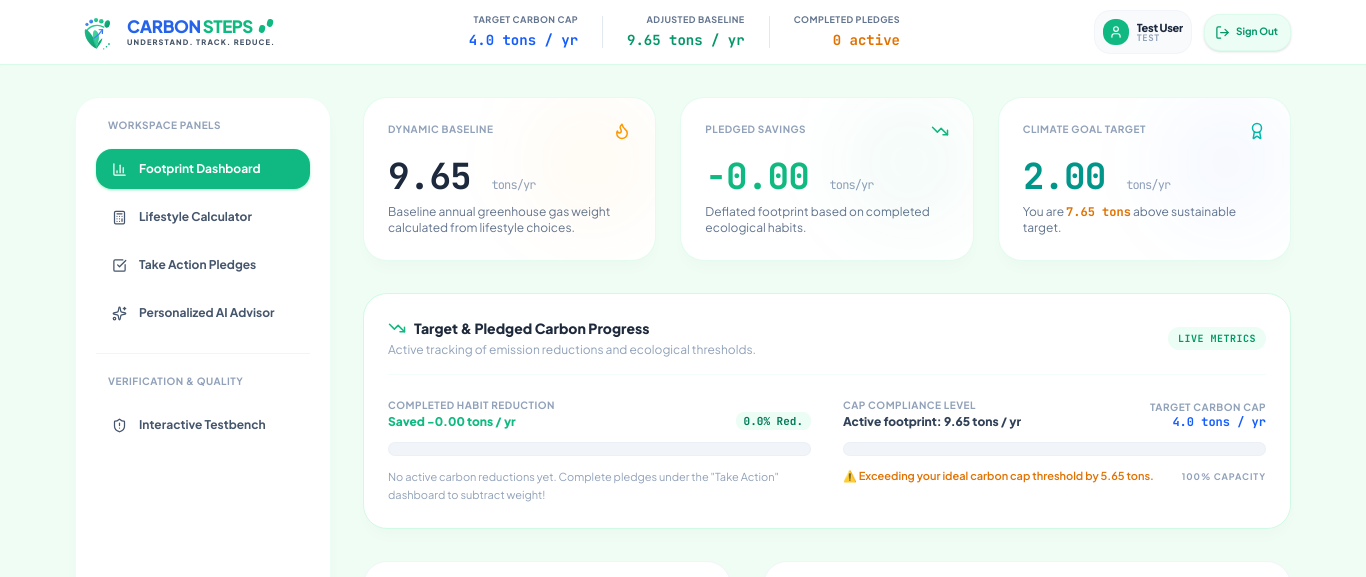
Test case: App › renders dashboard when logged in and allows tab switching
Expected: the text "Adjusted Baseline" is shown, [646,14,745,25]
Expected: the text "Test User" is shown, [1136,21,1183,34]
// Test tab switching
Click the button "Lifestyle Calculator" at x=203, y=217, box [96,197,310,237]
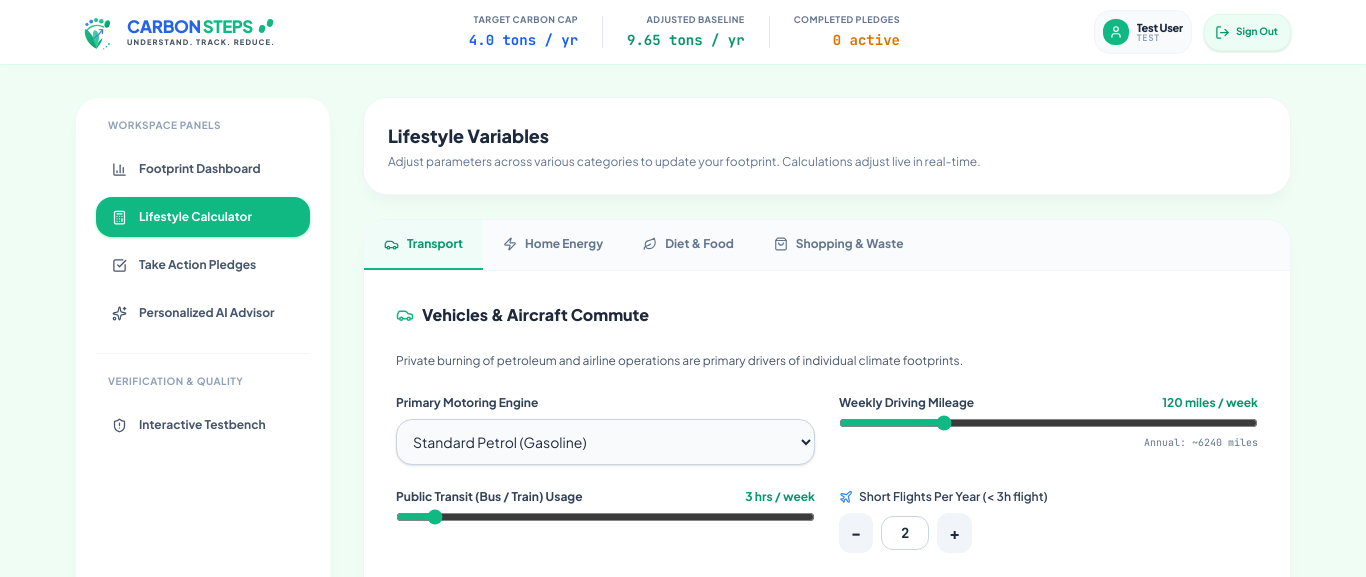
Now the heading "Lifestyle Variables" is shown, box [388,124,549,147]
Click the button "Take Action Pledges" at x=203, y=265, box [96,245,310,285]
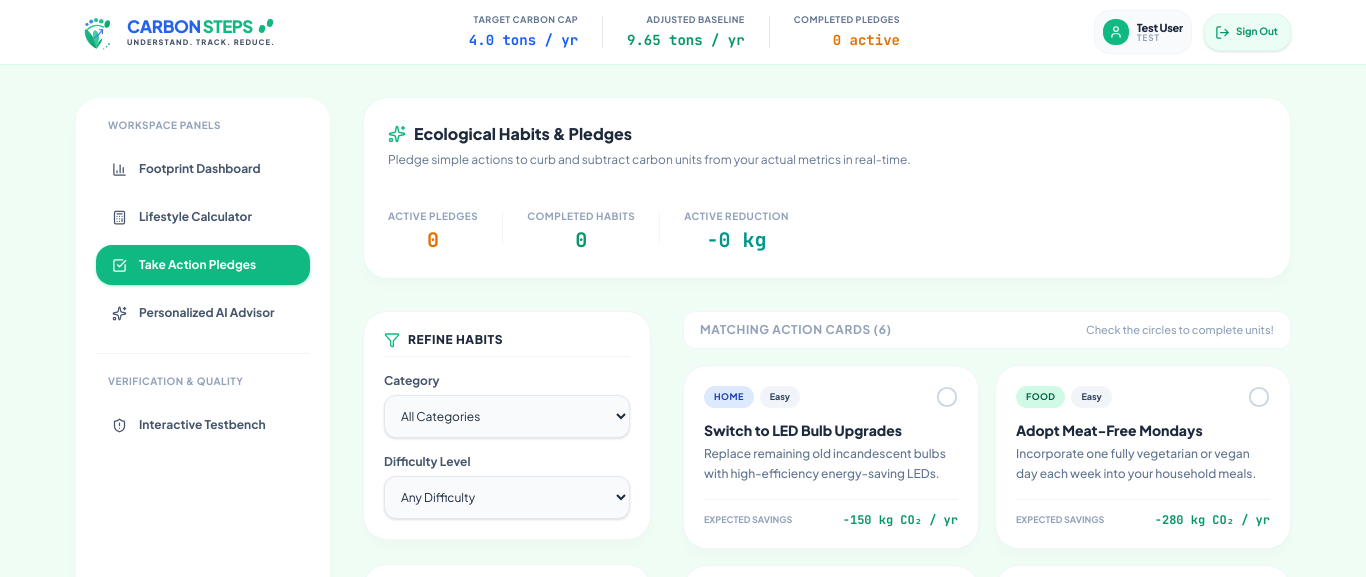
Now the text "Ecological Habits & Pledges" is shown, box [414,122,632,146]
Click the button "Personalized AI Advisor" at x=203, y=313, box [96,293,310,333]
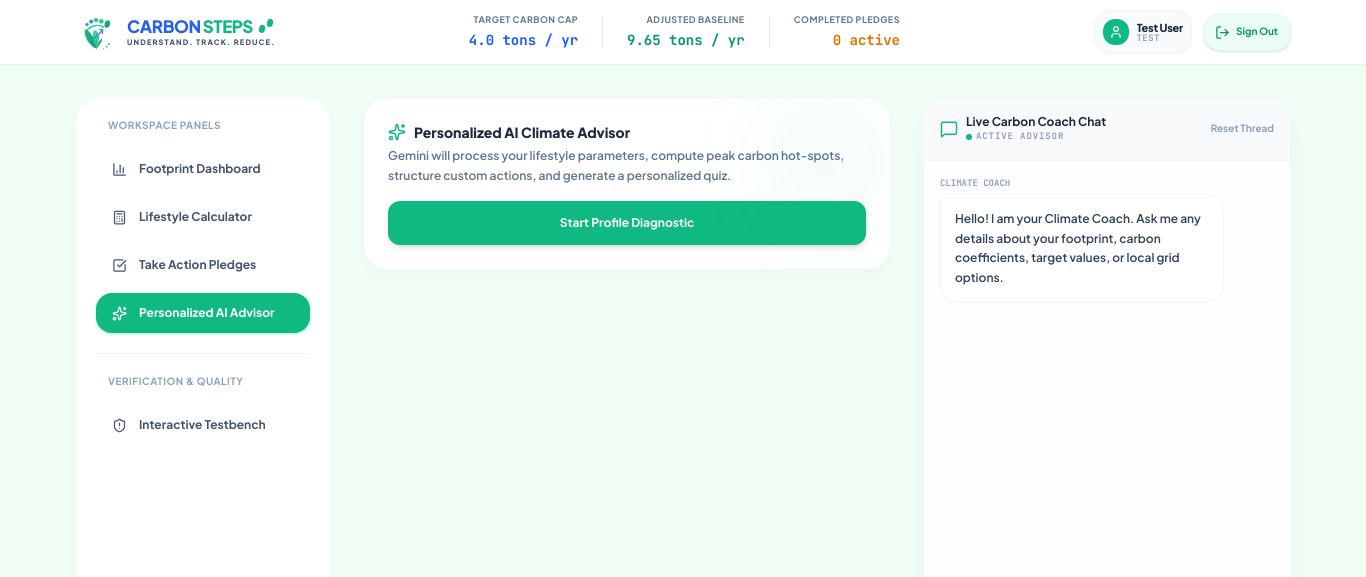
Now the text "Personalized AI Climate Advisor" is shown, box [414,122,630,142]
Click the button "Interactive Testbench" at x=203, y=425, box [96,405,310,445]
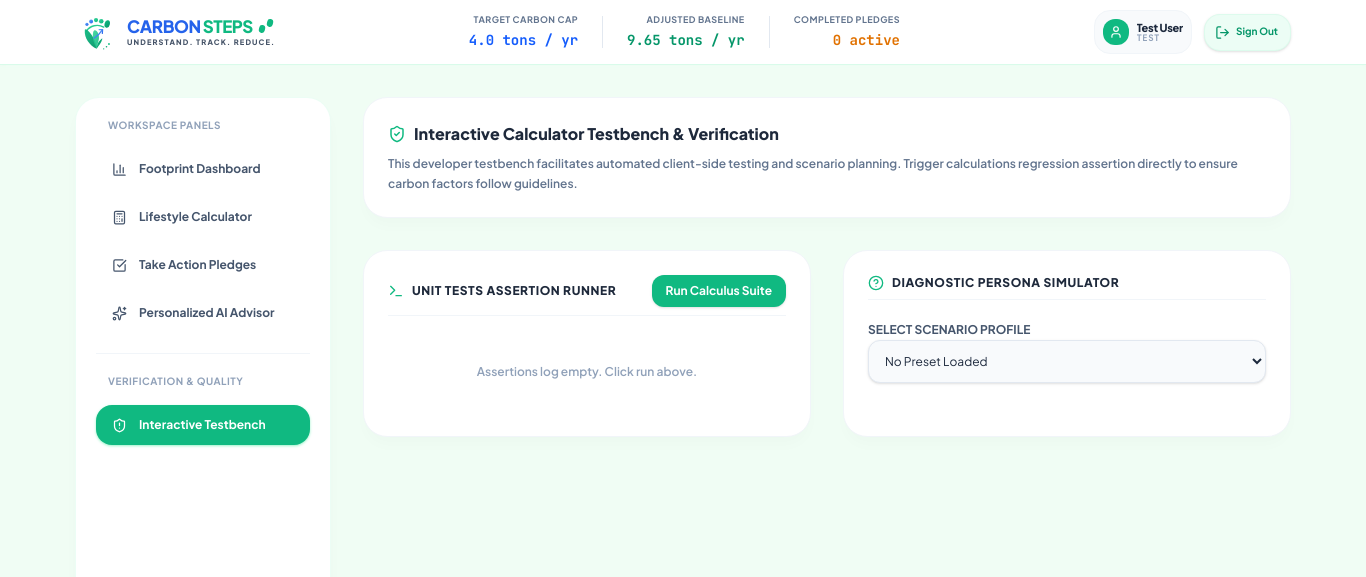
Now the text "Diagnostic Persona Simulator" is shown, box [892,275,1119,291]
